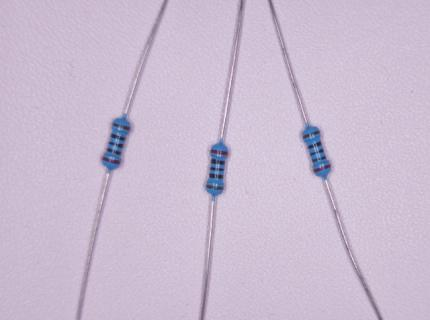Black band: (111, 133, 126, 142), (309, 148, 324, 157), (106, 148, 121, 156), (312, 155, 327, 163), (308, 141, 322, 149), (109, 141, 124, 148), (210, 166, 225, 172), (211, 159, 225, 165), (209, 173, 223, 179)
Brown band: (302, 130, 321, 140), (112, 122, 131, 131), (206, 184, 224, 190)
Red band: (313, 164, 332, 174), (102, 156, 121, 165), (211, 149, 228, 155)
